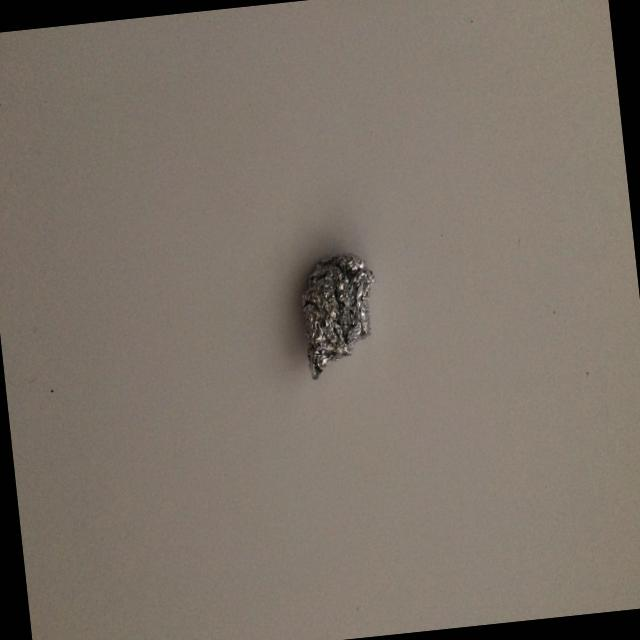Metal: (276, 244, 387, 392)
